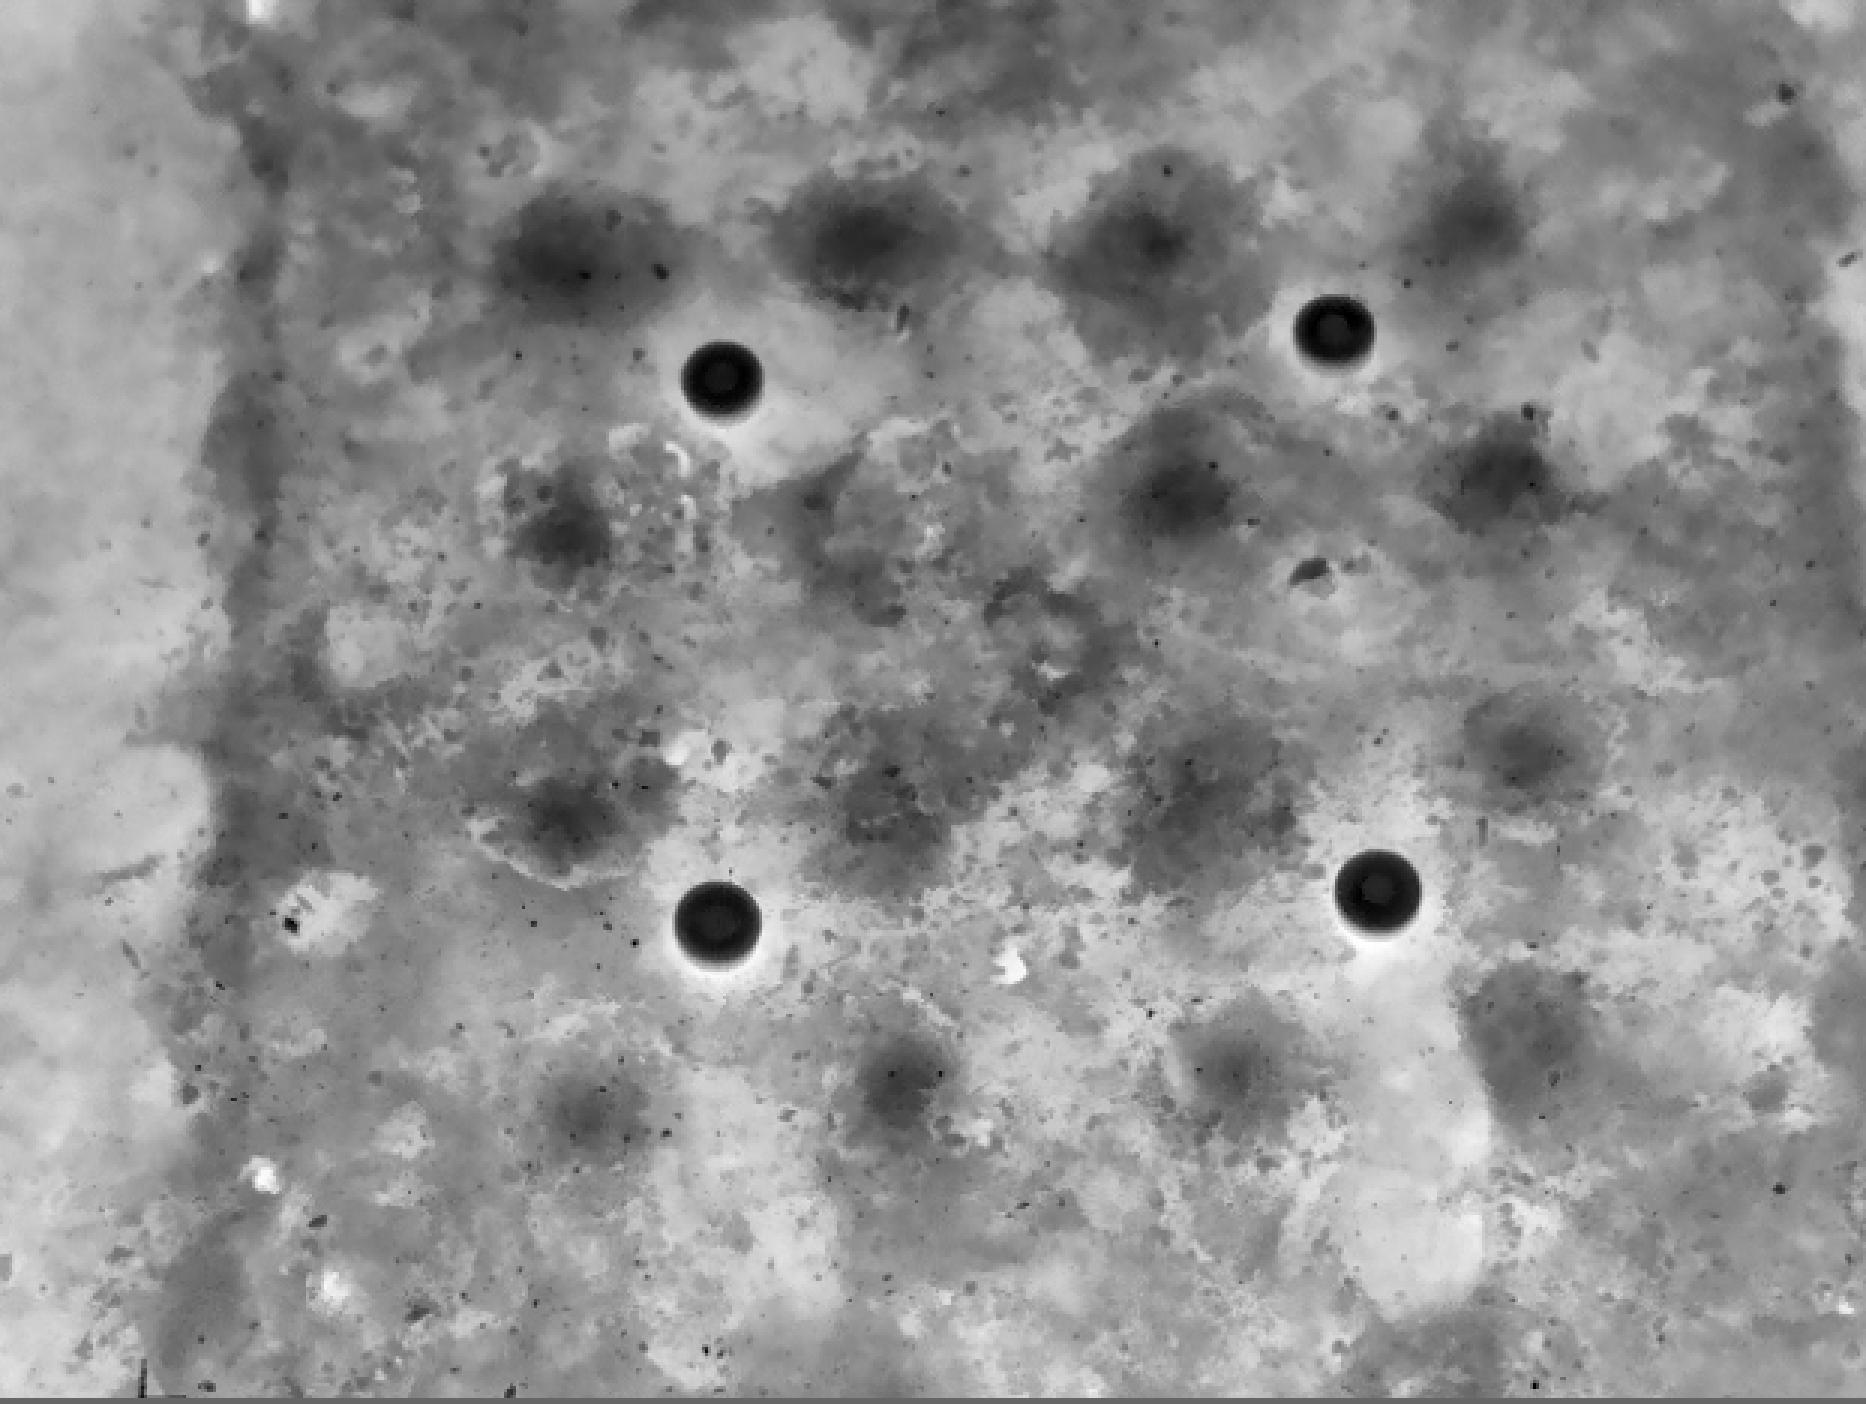mines-gjV8: (1338, 835, 1429, 938), (1292, 288, 1376, 383), (676, 877, 763, 965), (681, 345, 769, 413)
